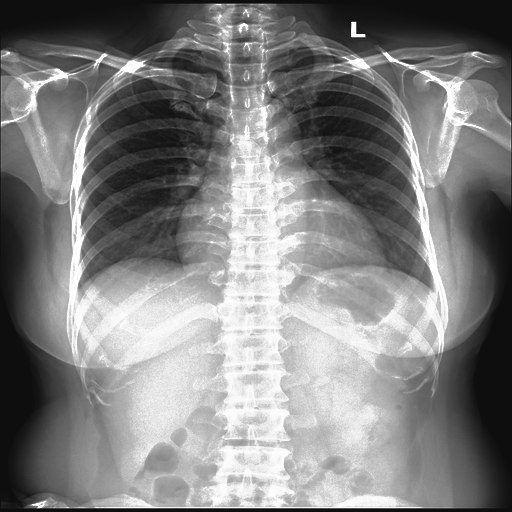Consolidation: (223, 106, 299, 164)
Nodule/Mass: (171, 208, 387, 270)
